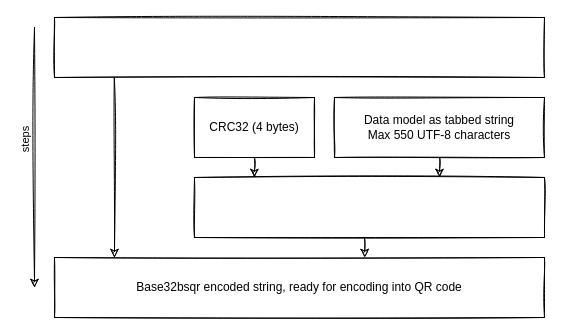
The diagram is 562 pixels wide and 335 high, and some of its shapes have lost their labels. The shapes that lost their labels are listed below. From the top down, each one's box as (x1, y1, x2, y2) in pixels, then its label:
(54, 16, 544, 78): Header (2 bytes)
(194, 176, 544, 238): Value sequence compressed by LZMA
